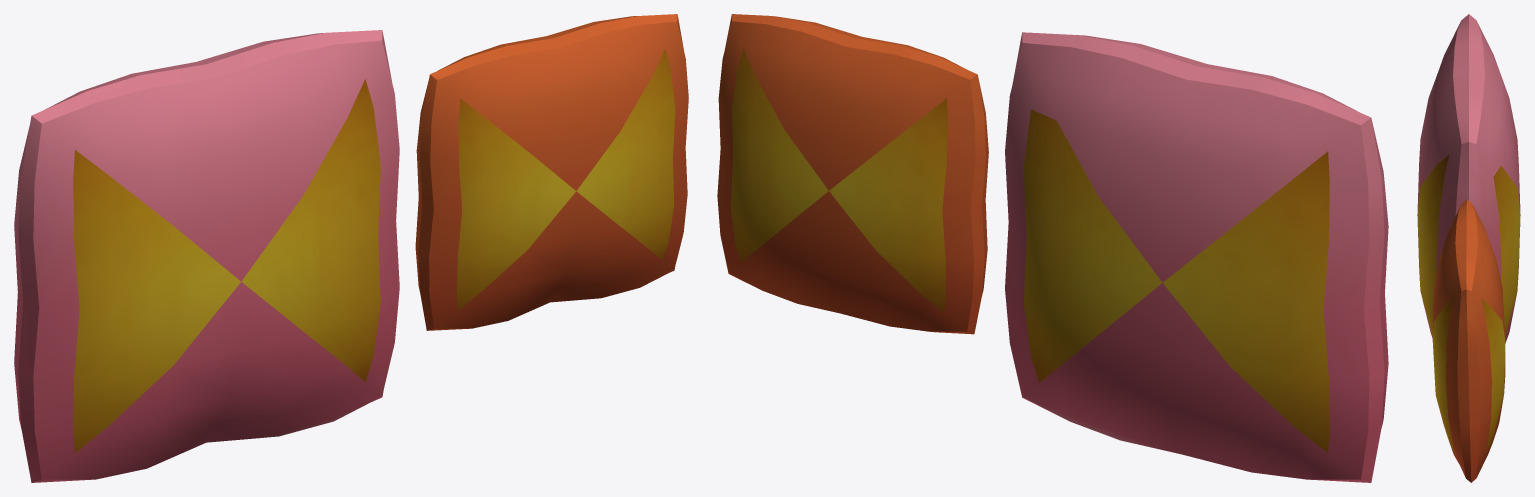
The model's file is Cushans.fbx.
3 renders of one model, left to right at view 1: azimuth 30°, elevation 25°; view 2: azimuth 150°, elevation 25°; view 3: azimuth 270°, elevation 25°, orthographic. The views are drawn at different scales.
Parts seen in each view (by area): view 1: Cushan .1, Cushan; view 2: Cushan .1, Cushan; view 3: Cushan .1, Cushan.
Boxes of the visible parts, left/top/right/bottom form: Cushan .1: left=14, top=30, right=399, bottom=482; Cushan: left=415, top=14, right=688, bottom=330; Cushan .1: left=1005, top=32, right=1388, bottom=482; Cushan: left=717, top=14, right=988, bottom=334; Cushan .1: left=1417, top=14, right=1520, bottom=343; Cushan: left=1432, top=199, right=1505, bottom=482.
Bounding box in the file's own units: 146 × 82.37 × 26.08.
